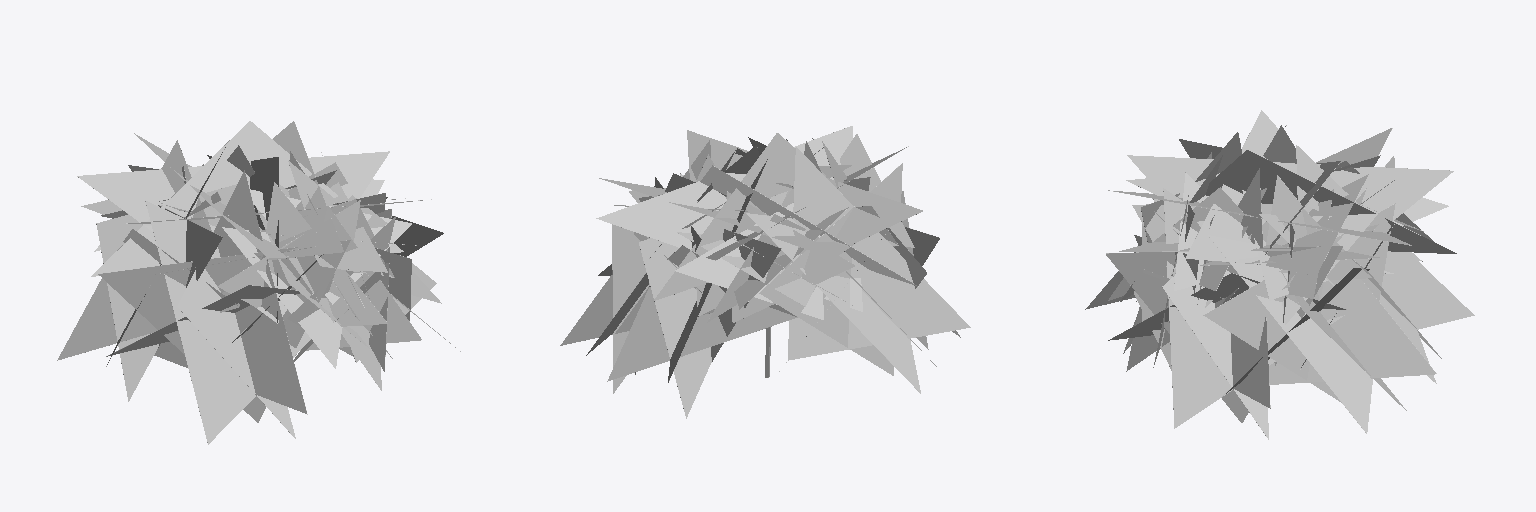
Rendered from KohmTreeDragon.obj.
3 renders of one model, left to right at view 1: azimuth 30°, elevation 25°; view 2: azimuth 150°, elevation 25°; view 3: azimuth 270°, elevation 25°, orthographic.
Visible parts, largest first — view 1: Cube; view 2: Cube; view 3: Cube.
Part boxes in pixels (x1,y1,x2,y2): Cube: (57,121,460,444); Cube: (560,126,970,418); Cube: (1085,110,1474,439).
Bounding box in the file's own units: 55.39 × 35.18 × 53.